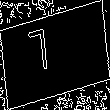L_S: (43, 27, 67, 83)
